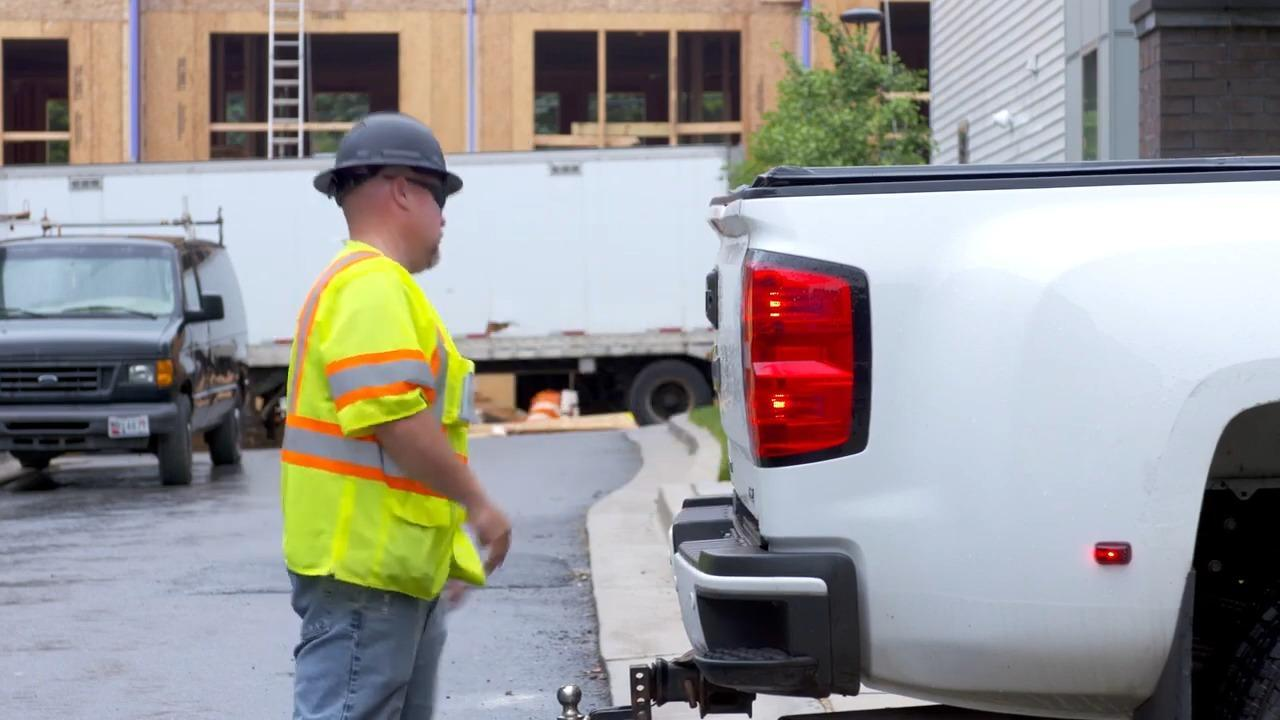Helmet: (312, 114, 463, 198)
Person: (280, 113, 512, 720)
Safety Vest: (284, 268, 461, 592)
bare-arms: (473, 505, 526, 584)
